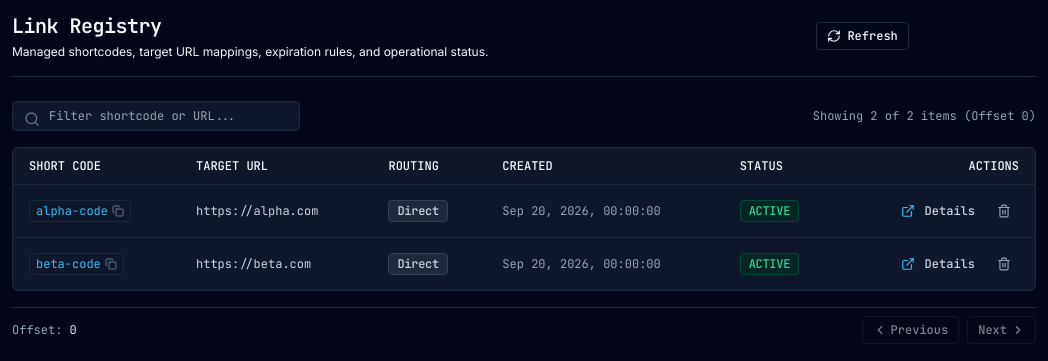
Test: LinksPage Component Tests › filters loaded links by search query input
The image size is (1048, 361).
Check: the text "alpha-code" is shown, box [36,203,108,219]
Check: the text "beta-code" is shown, box [36,256,101,272]
Type "alpha" into the field with placeholder "Filter shortcode or URL...". click: x=156, y=116
box: [12,101,300,131]
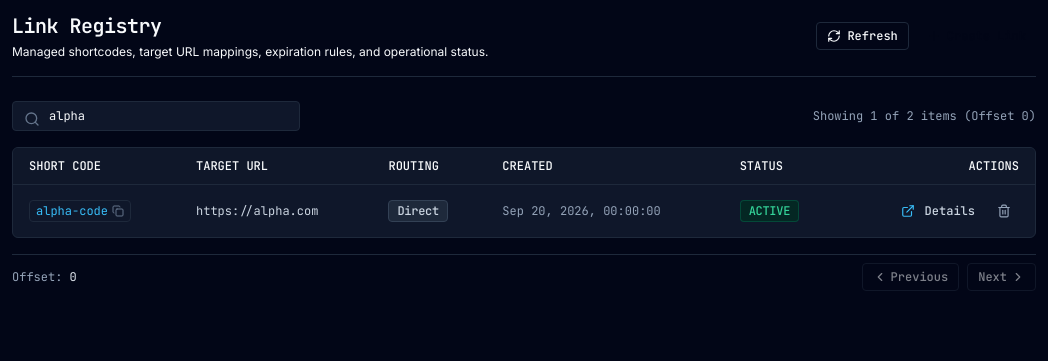
Check: the text "alpha-code" is shown, box [36,203,108,219]
Check: the text "beta-code" is gone
